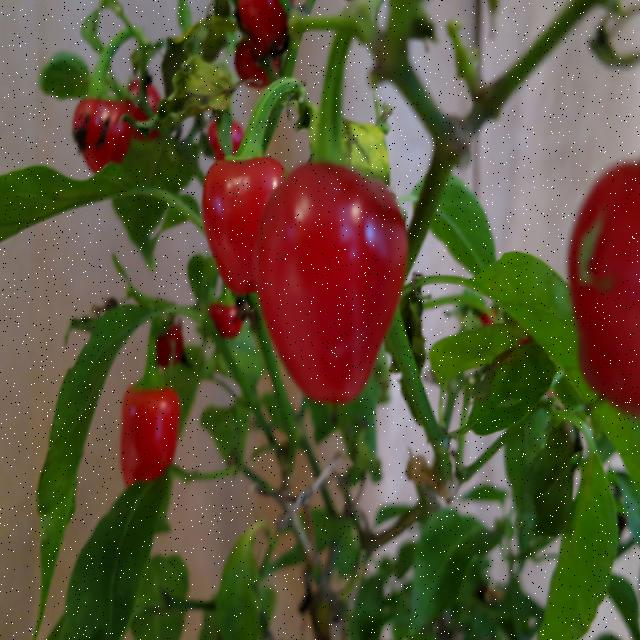Chili Pepper: (247, 157, 402, 410), (187, 126, 306, 307), (110, 351, 206, 543), (66, 77, 137, 182)
